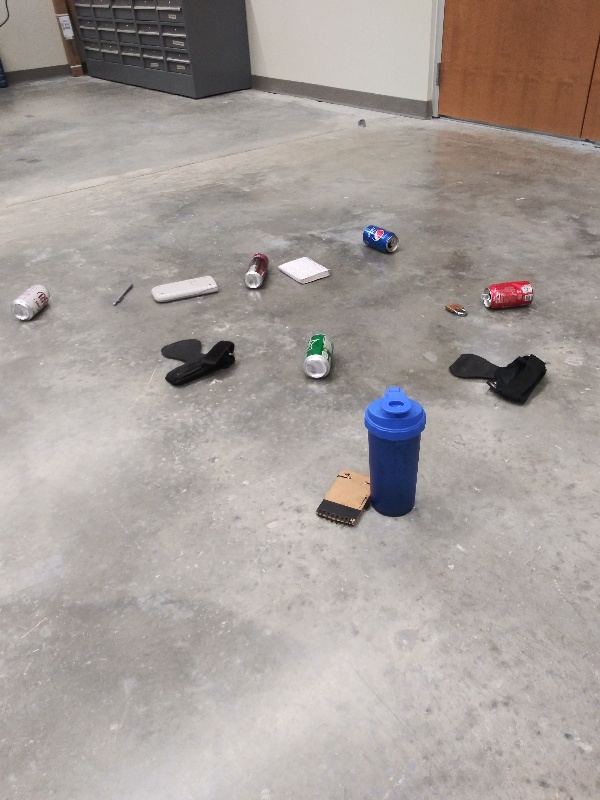can: (476, 279, 537, 311), (11, 278, 53, 324), (303, 327, 337, 383), (358, 223, 403, 257), (243, 248, 271, 292)
